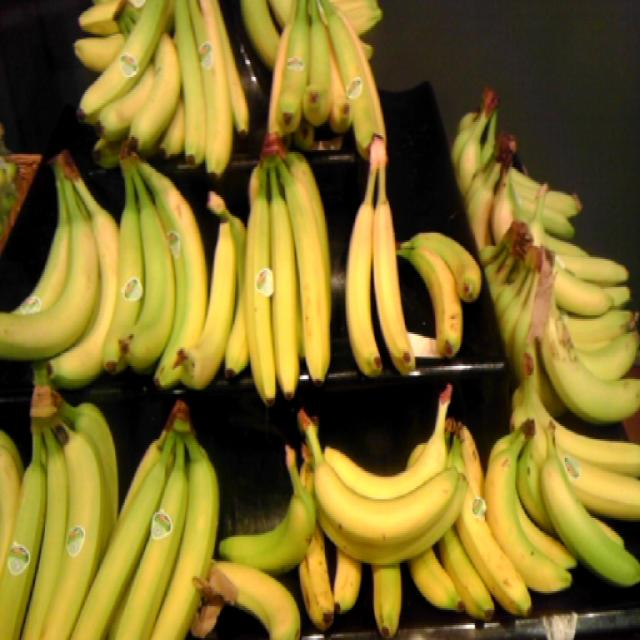banana: (75, 401, 221, 640), (67, 0, 254, 184), (476, 215, 640, 420), (479, 418, 640, 620), (291, 400, 471, 573), (0, 381, 120, 640), (0, 146, 121, 391), (236, 0, 405, 161), (101, 141, 208, 390), (243, 141, 336, 406), (446, 82, 588, 243), (345, 126, 421, 394), (392, 224, 487, 363), (191, 180, 252, 388)
